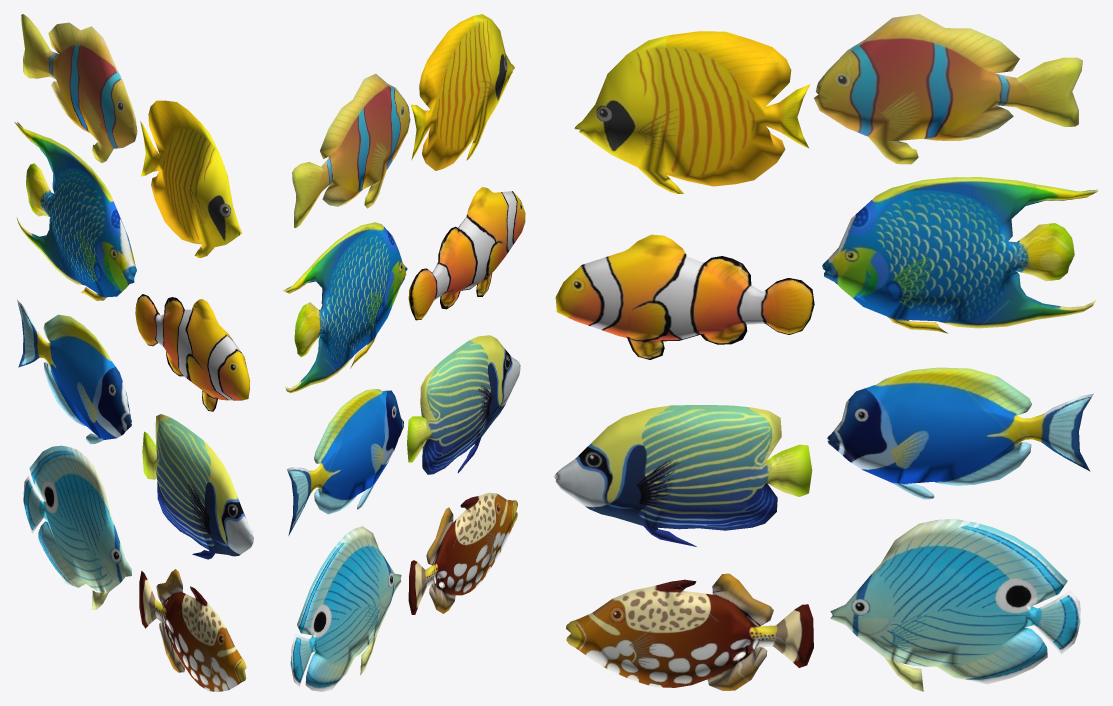
The model's file is Fishes.fbx.
The picture shows the model from 3 angles, left to right: view 1: azimuth 30°, elevation 25°; view 2: azimuth 150°, elevation 25°; view 3: azimuth 270°, elevation 25°; orthographic projection. The views are drawn at different scales.
Visible parts, largest first — view 1: Plane.003, Plane.007, Plane.002, Plane.004, Plane.001, Plane.005, Plane, Plane.006; view 2: Plane.003, Plane.007, Plane.002, Plane.004, Plane.001, Plane.005, Plane, Plane.006; view 3: Plane.003, Plane.007, Plane.002, Plane.004, Plane.001, Plane.005, Plane.006, Plane.
Part boxes in pixels (box(x1,y1,x2,y2)): Plane.003: box(14, 121, 136, 300); Plane.007: box(23, 445, 131, 609); Plane.002: box(140, 100, 241, 257); Plane.004: box(142, 414, 253, 559); Plane.001: box(21, 14, 137, 163); Plane.005: box(17, 299, 131, 444); Plane: box(135, 294, 250, 411); Plane.006: box(139, 569, 246, 691); Plane.003: box(283, 222, 407, 393); Plane.007: box(290, 526, 401, 691); Plane.002: box(411, 14, 514, 170); Plane.004: box(407, 335, 520, 474); Plane.001: box(292, 73, 410, 228); Plane.005: box(287, 389, 403, 535); Plane: box(408, 187, 525, 320); Plane.006: box(408, 492, 517, 614); Plane.003: box(822, 177, 1097, 333); Plane.007: box(830, 519, 1080, 691); Plane.002: box(574, 31, 810, 193); Plane.004: box(554, 405, 812, 546); Plane.001: box(814, 14, 1082, 164); Plane.005: box(827, 367, 1093, 499); Plane.006: box(566, 573, 813, 690); Plane: box(555, 234, 814, 359).
Size of the model in its own units: 2.86 by 47.93 by 34.95.
